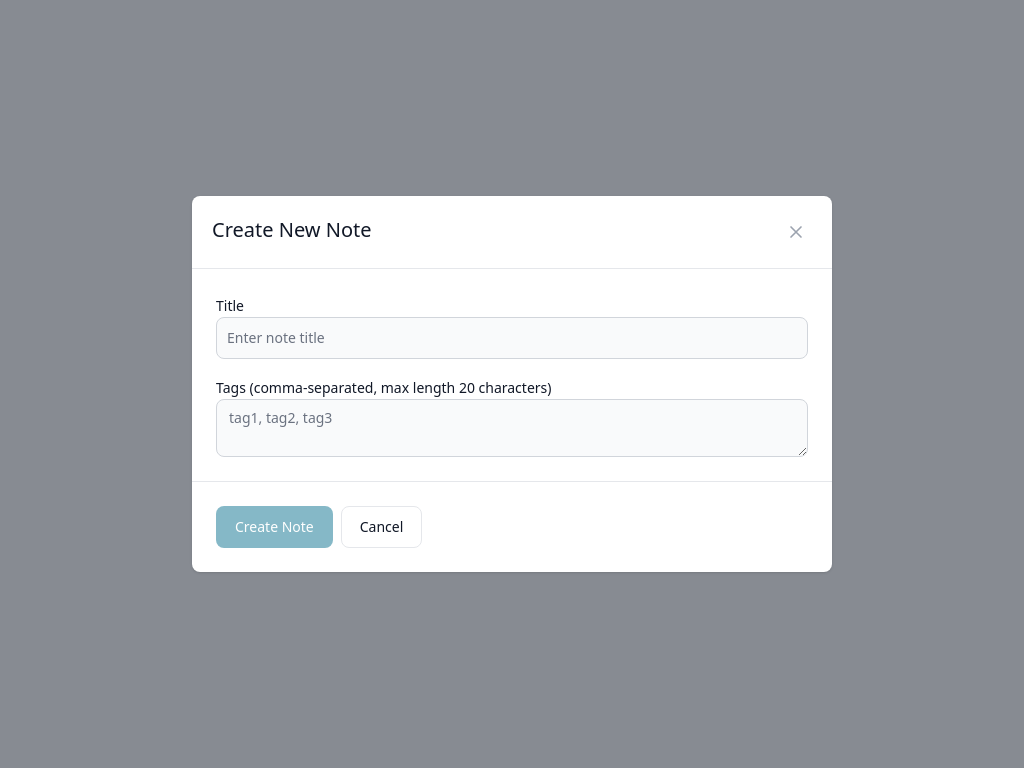
Test case: NoteModal Component › Create Mode › enables submit button when title is provided
This screenshot has width=1024, height=768.
Type "Test Title" into the field labelled "Title". click: (512,338)
box: [216,317,808,359]
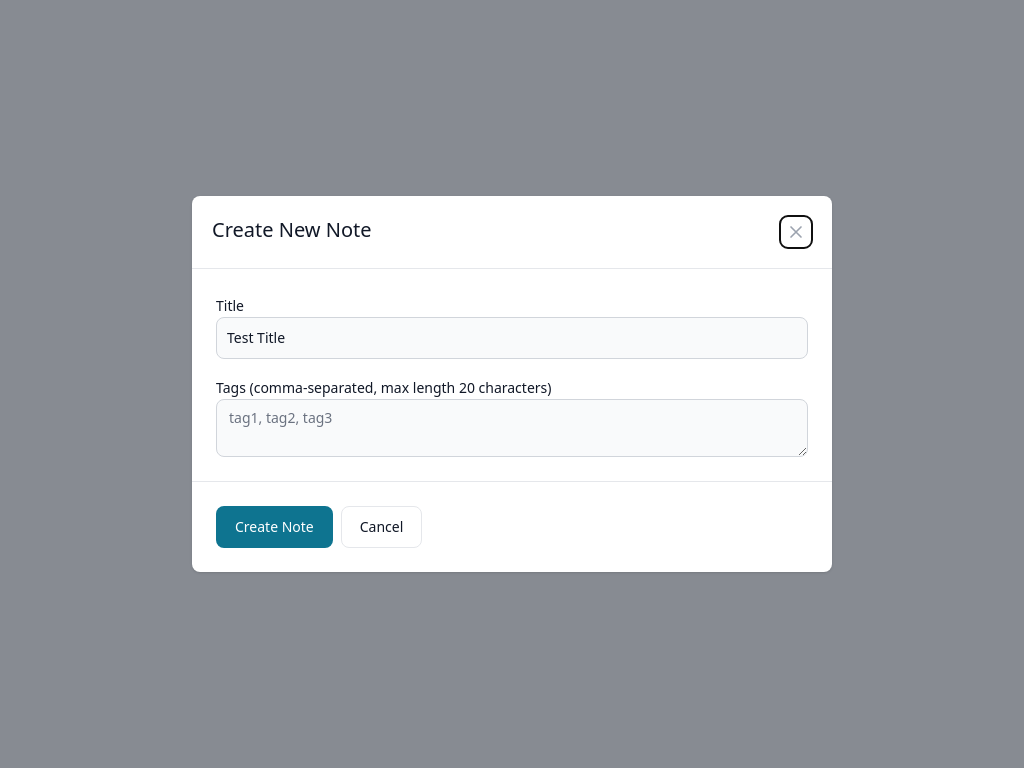
Expected: the button "Create Note" is enabled, [216,506,333,548]
